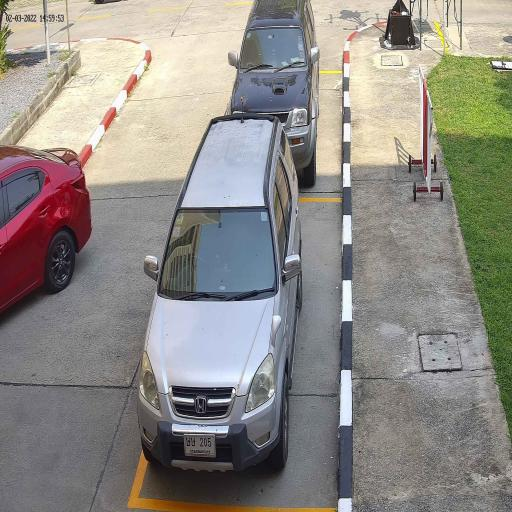car: (136, 112, 303, 476), (229, 0, 320, 187), (0, 144, 93, 318)
